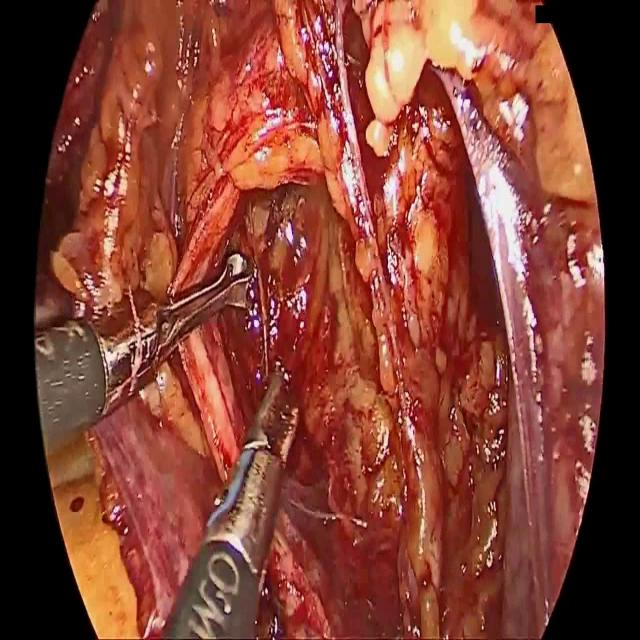surgical-area: (35, 0, 604, 639)
surgical-tool: (35, 253, 252, 457), (158, 370, 298, 639)
